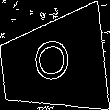O_W: (31, 39, 76, 89)
